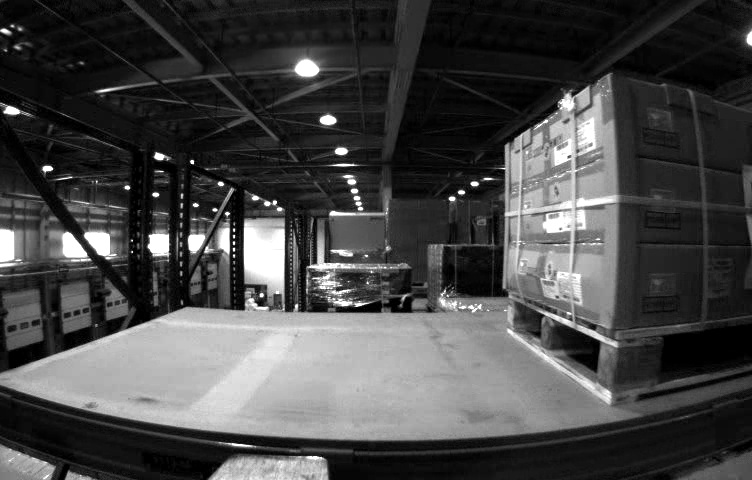True Barcode: (700, 254, 735, 295)
